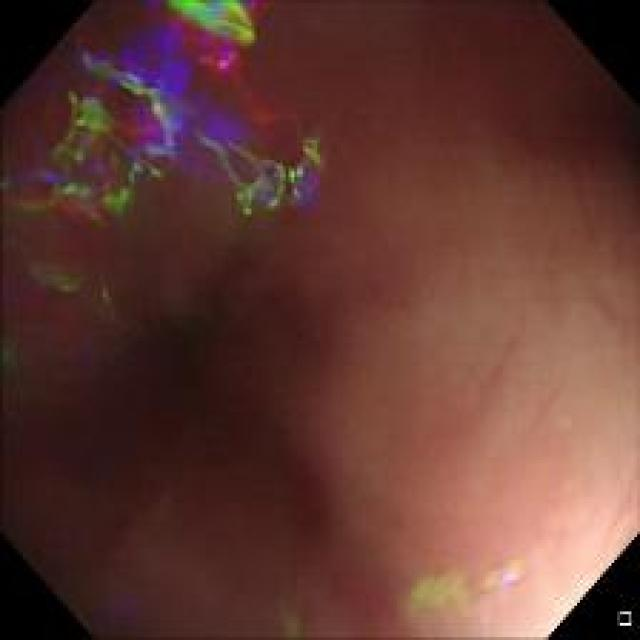color misalignment: (12, 2, 334, 294), (411, 562, 532, 619), (269, 582, 346, 634)
contrast: (29, 192, 350, 574)
